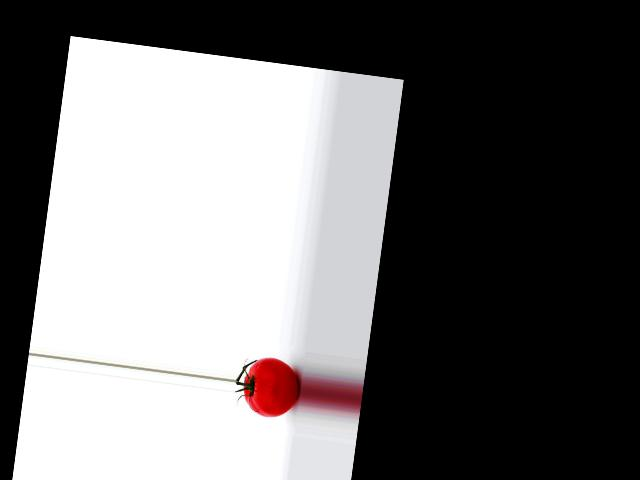tomato: (240, 355, 302, 421)
